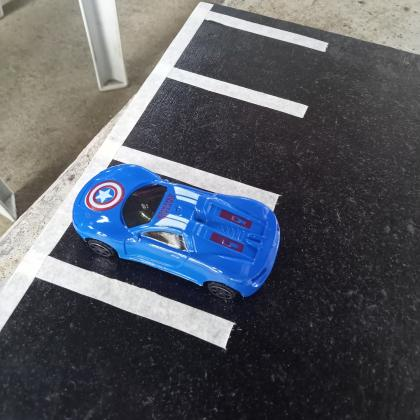Car: (72, 163, 282, 300)
